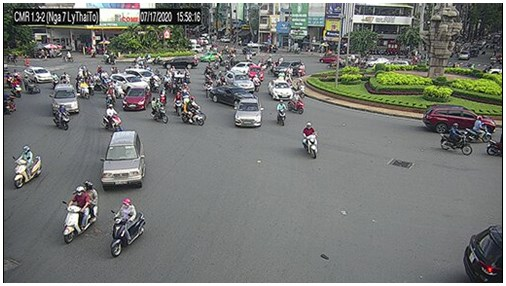xe_hoi: (101, 131, 146, 189), (210, 86, 253, 107), (234, 98, 262, 128), (52, 85, 79, 114), (110, 73, 150, 92), (122, 86, 151, 111), (126, 68, 160, 86), (227, 72, 255, 91), (268, 80, 293, 100), (23, 67, 53, 83), (162, 55, 196, 68), (274, 61, 303, 73), (232, 61, 257, 73), (367, 56, 389, 66), (320, 54, 341, 63), (202, 51, 218, 61), (388, 59, 407, 67)
xe_may: (61, 179, 97, 245), (110, 198, 145, 258), (12, 145, 42, 190), (440, 122, 472, 156), (466, 115, 491, 144), (181, 101, 205, 128), (302, 121, 318, 161), (101, 103, 123, 131), (151, 96, 168, 123), (54, 104, 70, 132), (289, 91, 303, 115), (276, 99, 287, 127), (105, 82, 116, 108), (78, 78, 89, 101), (5, 92, 16, 115), (11, 77, 22, 97), (148, 75, 160, 92), (175, 90, 182, 117), (87, 75, 96, 96), (204, 76, 212, 98), (163, 73, 172, 92), (253, 72, 262, 91), (51, 71, 60, 88), (94, 73, 102, 90), (63, 49, 72, 64), (216, 75, 228, 86), (185, 67, 192, 85), (296, 62, 304, 77), (63, 70, 71, 83)
